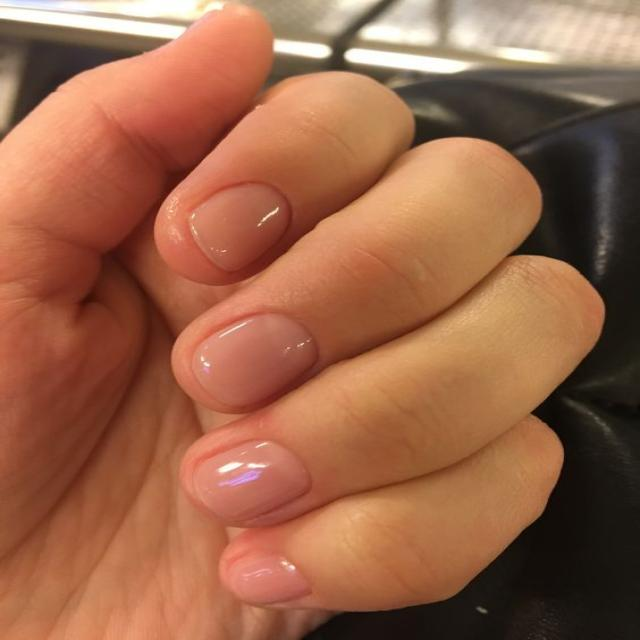Fingernail: (193, 314, 317, 409), (194, 440, 309, 524), (191, 183, 289, 271), (229, 557, 309, 605)
